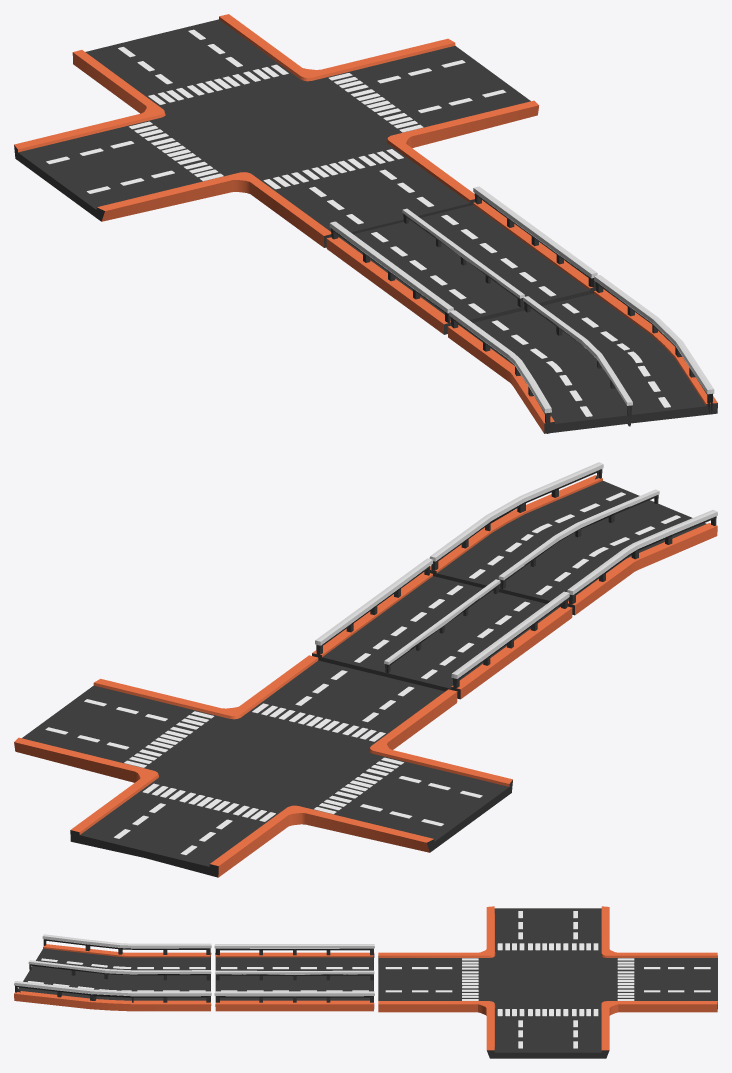
File: road_cartoon_2.fbx
The picture shows the model from 3 angles, top to bottom: view 1: azimuth 30°, elevation 25°; view 2: azimuth 150°, elevation 25°; view 3: azimuth 270°, elevation 25°; orthographic projection. The views are drawn at different scales.
Visible parts, largest first — view 1: Plane, Plane.002, Plane.001; view 2: Plane, Plane.002, Plane.001; view 3: Plane, Plane.002, Plane.001.
Boxes of the visible parts, left/top/right/bottom form: Plane: left=14, top=14, right=539, bottom=247; Plane.002: left=447, top=275, right=717, bottom=433; Plane.001: left=326, top=186, right=597, bottom=334; Plane: left=14, top=655, right=512, bottom=877; Plane.002: left=429, top=462, right=717, bottom=615; Plane.001: left=312, top=558, right=572, bottom=699; Plane: left=378, top=906, right=717, bottom=1058; Plane.002: left=14, top=934, right=211, bottom=1011; Plane.001: left=214, top=944, right=374, bottom=1011.
Bounding box in the file's own units: 1254 × 77.82 × 2586.
